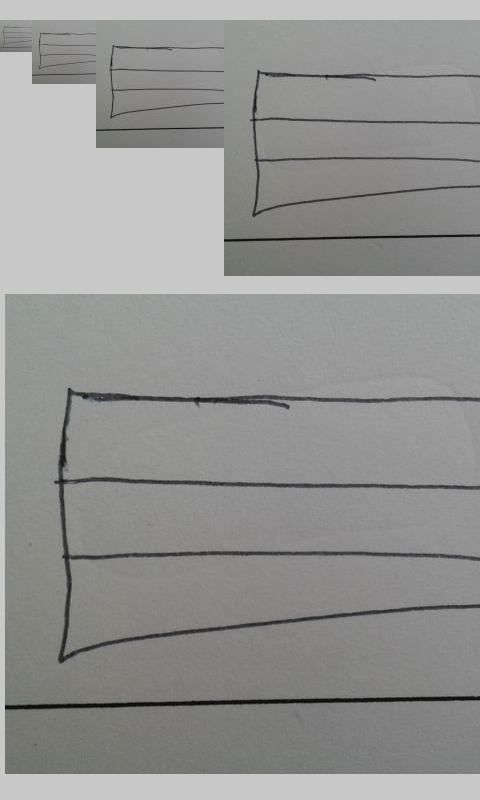list_view: (54, 387, 475, 662), (247, 67, 476, 218), (108, 43, 223, 119), (38, 31, 95, 70), (2, 25, 32, 45)
